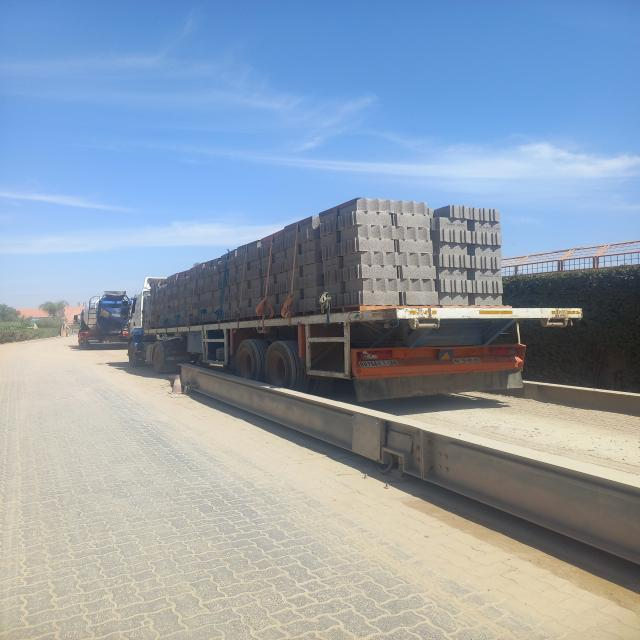bricks: (149, 198, 503, 326)
